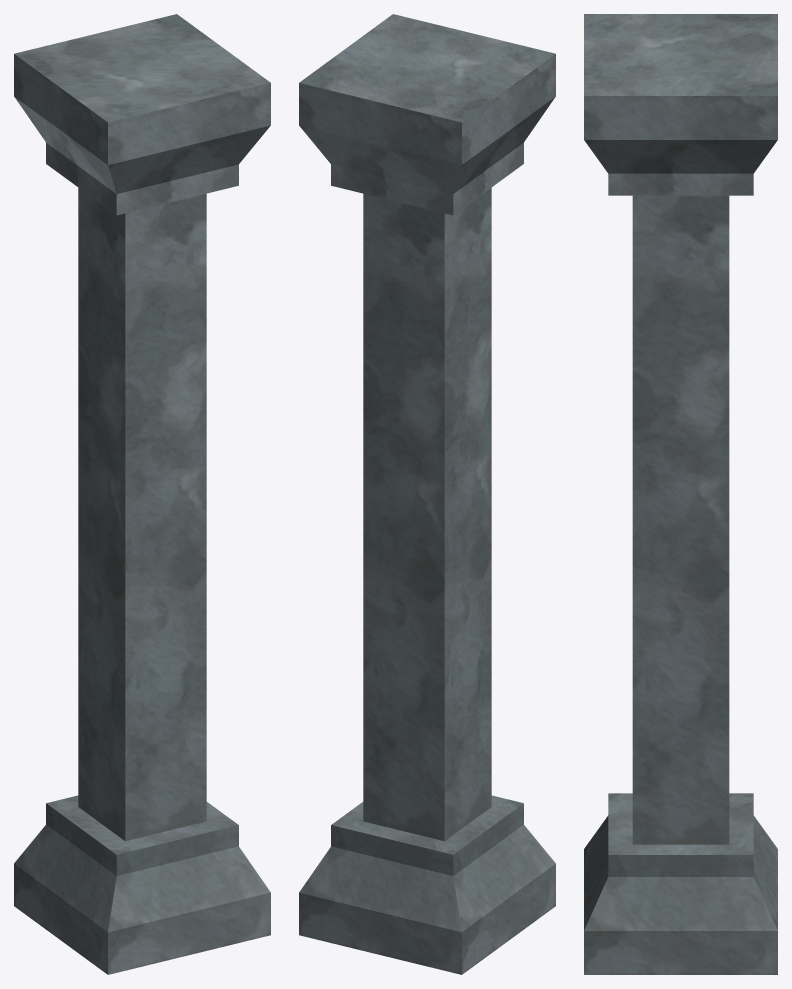
The model's file is column.fbx.
3 views of the same model, side by side, from view 1: azimuth 30°, elevation 25°; view 2: azimuth 150°, elevation 25°; view 3: azimuth 270°, elevation 25° (orthographic). The views are drawn at different scales.
Visible parts, largest first — view 1: column_classic; view 2: column_classic; view 3: column_classic.
Part boxes in pixels (x1,y1,x2,y2): column_classic: [14, 14, 270, 974]; column_classic: [299, 14, 555, 974]; column_classic: [584, 14, 777, 974].
Bounding box in the file's own units: 2 × 10 × 2.
Materials: 1 (1 with a texture image).
